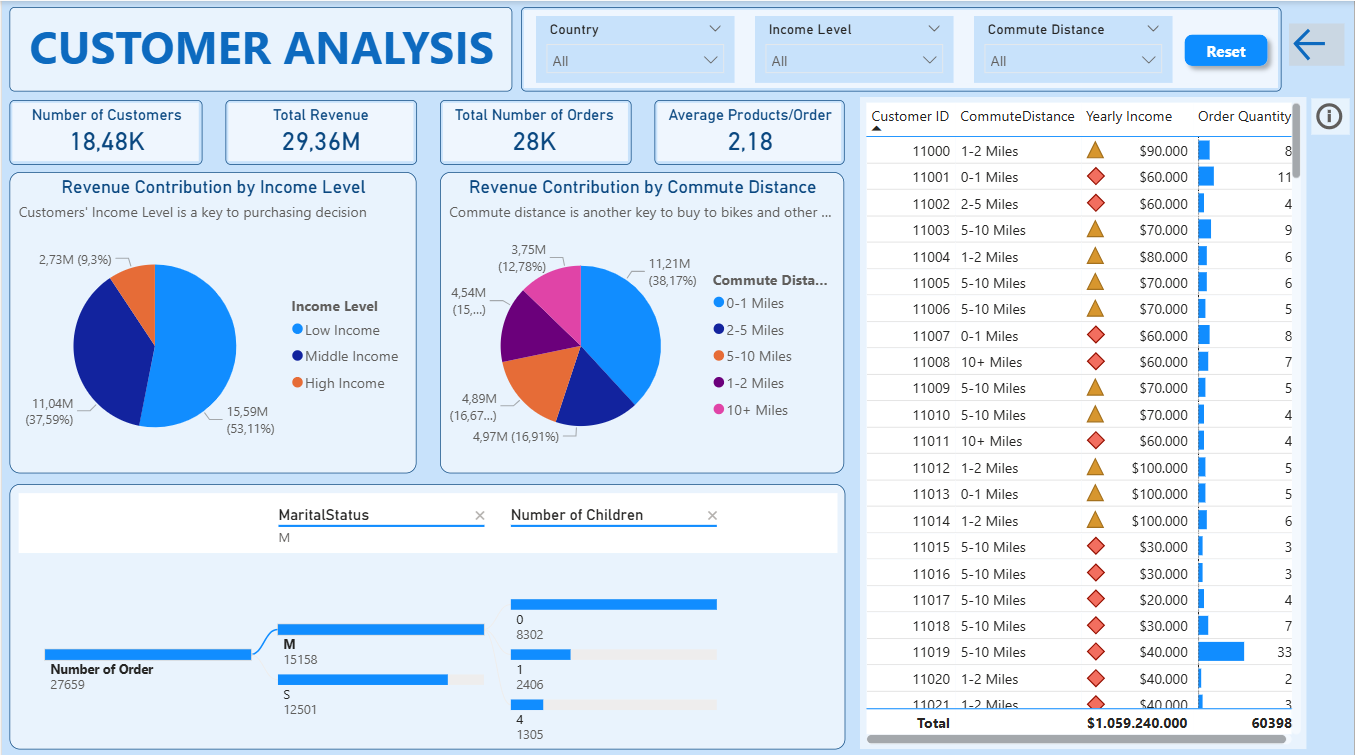

The dashboard page shown, as its layout file describes it:
{"tool":"powerbi","page":{"name":"Customer Analysis","canvas":[1280,720],"ordinal":3},"visuals":[{"type":"textbox","box":[7.5,6.2,476.2,80],"z":0},{"type":"shape","box":[491.2,6.2,720,80],"z":1000},{"type":"slicer","fields":{"Values":["Customer.CommuteDistance"]},"box":[920.2,13.7,187.9,63.4],"z":2000},{"type":"slicer","fields":{"Values":["Customer.IncomeSegment"]},"box":[712.6,13.7,187.9,63.4],"z":3000},{"type":"slicer","fields":{"Values":["Geography (Customer).Country"]},"box":[504.9,13.7,187.9,63.4],"z":4000},{"type":"shape","box":[1110.6,22.1,97,47.9],"z":5000},{"type":"shape","box":[7.5,93.8,182.5,61.2],"z":8000},{"type":"card","title":"Number of Customers","fields":{"Values":["Count(Customer.CustomerKey)"]},"box":[8.8,100,181.2,68.8],"z":9000},{"type":"shape","box":[617.5,93.8,180,61.2],"z":10000},{"type":"shape","box":[211.2,93.8,181.2,61.2],"z":11000},{"type":"tableEx","fields":{"Values":["Customer.CustomerKey","Customer.CommuteDistance","Sum(Customer.YearlyIncome)","Sum(Internet Sales.Order Quantity)"]},"box":[812.5,91.2,422.5,617.5],"z":12000},{"type":"card","title":"Average Products/Order","fields":{"Values":["Fact.Quantity per Order"]},"box":[617.5,100,181.2,68.8],"z":13000},{"type":"shape","box":[415,93.8,181.2,61.2],"z":14000},{"type":"card","title":"Total Number of Orders","fields":{"Values":["Fact.Number of Order"]},"box":[413.8,100,181.2,68.8],"z":15000},{"type":"card","title":"Total Revenue","fields":{"Values":["Fact.Revenue"]},"box":[230,100,143.8,68.8],"z":16000},{"type":"pieChart","title":"Revenue Contribution by Income Level","fields":{"Category":["Customer.IncomeSegment"],"Y":["Fact.Revenue"]},"box":[7.5,162.5,385,285],"z":17000},{"type":"pieChart","title":"Revenue Contribution by Commute Distance","fields":{"Category":["Customer.CommuteDistance"],"Y":["Fact.Revenue"]},"box":[415,162.5,382.5,285],"z":18000},{"type":"actionButton","box":[1218.8,21.2,52.5,40],"z":19000},{"type":"decompositionTreeVisual","fields":{"Analyze":["Fact.Number of Order"],"ExplainBy":["Customer.MaritalStatus","Customer.NumberChildrenAtHome"]},"box":[7.5,457.5,791.2,251.2],"z":20000},{"type":"actionButton","box":[1239.3,91.8,36,33.7],"z":21000}]}

Visuals, with their boxes in screenshot pixels (x1, y1, x2, y2), scaled from the page's 1280x720 canvas onto the 1355x755 screenshot:
textbox: left=8, top=7, right=512, bottom=90
shape: left=520, top=7, right=1282, bottom=90
slicer - Customer.CommuteDistance: left=974, top=14, right=1173, bottom=81
slicer - Customer.IncomeSegment: left=754, top=14, right=953, bottom=81
slicer - Geography (Customer).Country: left=534, top=14, right=733, bottom=81
shape: left=1176, top=23, right=1278, bottom=73
shape: left=8, top=98, right=201, bottom=163
"Number of Customers" card: left=9, top=105, right=201, bottom=177
shape: left=654, top=98, right=844, bottom=163
shape: left=224, top=98, right=415, bottom=163
tableEx - Customer.CustomerKey x Customer.CommuteDistance: left=860, top=96, right=1307, bottom=743
"Average Products/Order" card: left=654, top=105, right=845, bottom=177
shape: left=439, top=98, right=631, bottom=163
"Total Number of Orders" card: left=438, top=105, right=630, bottom=177
"Total Revenue" card: left=243, top=105, right=396, bottom=177
"Revenue Contribution by Income Level" pieChart: left=8, top=170, right=415, bottom=469
"Revenue Contribution by Commute Distance" pieChart: left=439, top=170, right=844, bottom=469
actionButton: left=1290, top=22, right=1346, bottom=64
decompositionTreeVisual - Fact.Number of Order x Customer.MaritalStatus: left=8, top=480, right=845, bottom=743
actionButton: left=1312, top=96, right=1350, bottom=132
